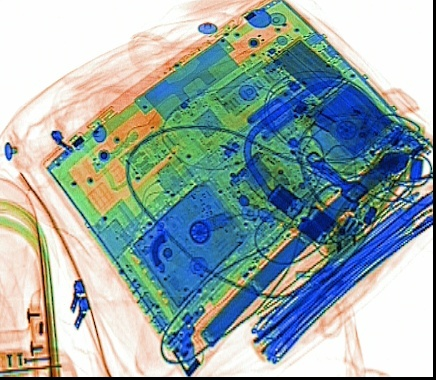powerbank: (262, 33, 399, 160)
